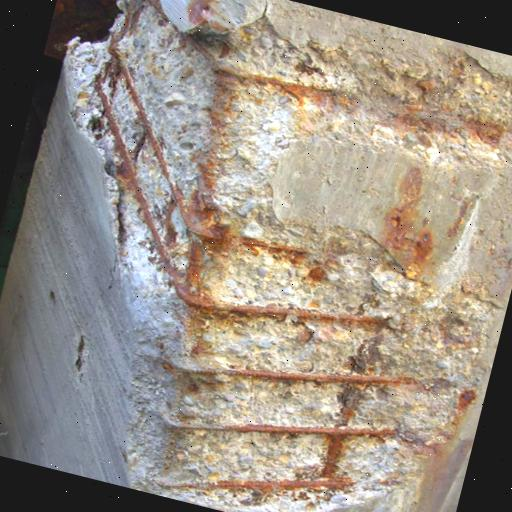spalling: (67, 0, 512, 493)
